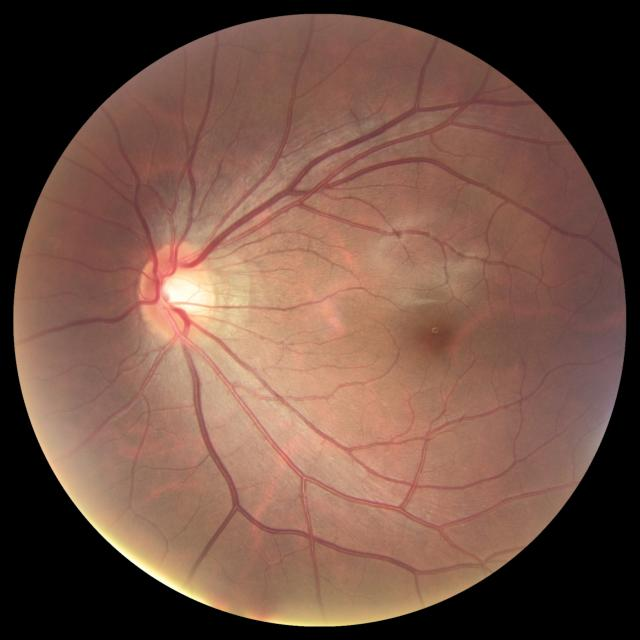OC: (157, 267, 201, 311)
OD: (139, 244, 217, 344)
